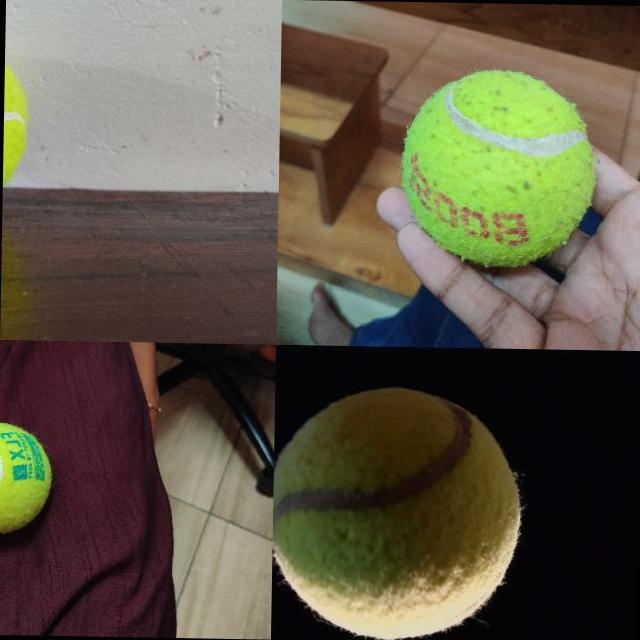Tennis Ball: (271, 381, 524, 640), (401, 66, 596, 268), (0, 421, 53, 533)
